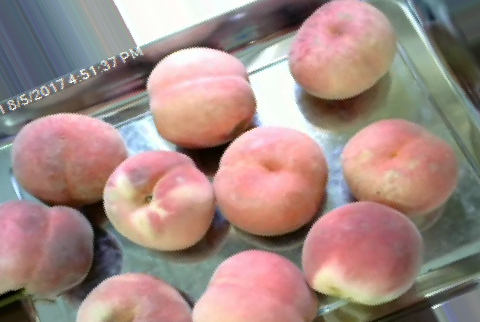Peach: (301, 200, 423, 306), (213, 126, 328, 234), (341, 117, 460, 217), (11, 113, 128, 209), (146, 45, 255, 148), (102, 149, 212, 250), (287, 0, 398, 100), (0, 199, 92, 299), (190, 249, 316, 320), (74, 272, 195, 321)
